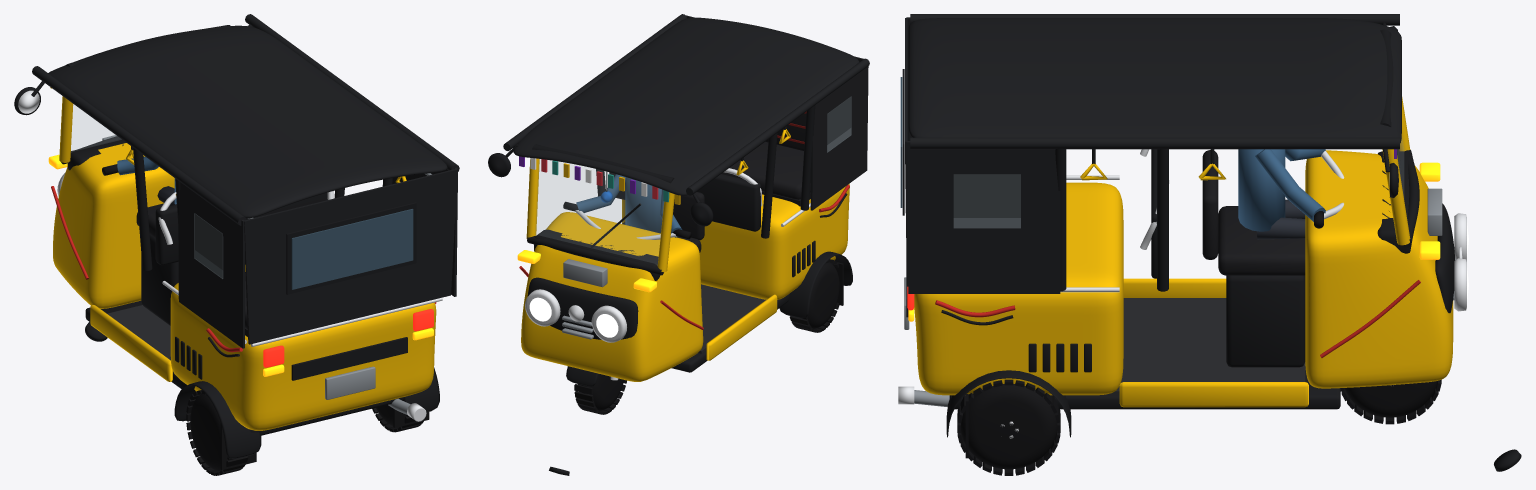
Rendered from tuk.glb.
The picture shows the model from 3 angles, left to right: view 1: azimuth 30°, elevation 25°; view 2: azimuth 150°, elevation 25°; view 3: azimuth 270°, elevation 25°; orthographic projection. The views are drawn at different scales.
Visible parts, largest first — view 1: BodyMesh, WheelRLMesh, DriverMesh, WheelRRMesh; view 2: BodyMesh, DriverMesh, WheelRLMesh, WheelFMesh, SteerFMesh; view 3: BodyMesh, WheelRRMesh, DriverMesh, WheelFMesh.
Part boxes in pixels (x1,y1,x2,y2): BodyMesh: (14,14,459,470); WheelRLMesh: (186,390,248,475); DriverMesh: (117,156,176,205); WheelRRMesh: (372,405,426,432); BodyMesh: (488,14,869,475); DriverMesh: (576,174,682,237); WheelRLMesh: (789,259,839,332); WheelFMesh: (574,374,626,414); SteerFMesh: (566,366,618,386); BodyMesh: (898,14,1521,471); WheelRRMesh: (957,379,1060,475); DriverMesh: (1238,149,1325,239); WheelFMesh: (1340,379,1441,424).
Bounding box in the file's own units: 1.82 × 2.27 × 3.16.
